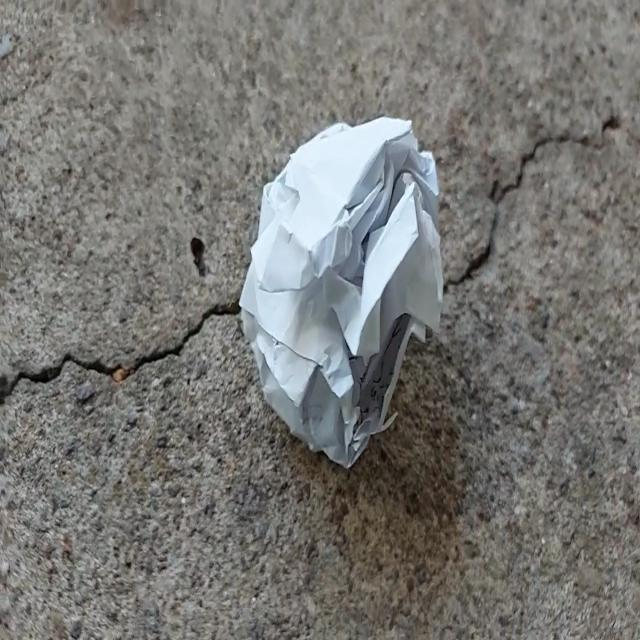Paper: (212, 68, 496, 516)
